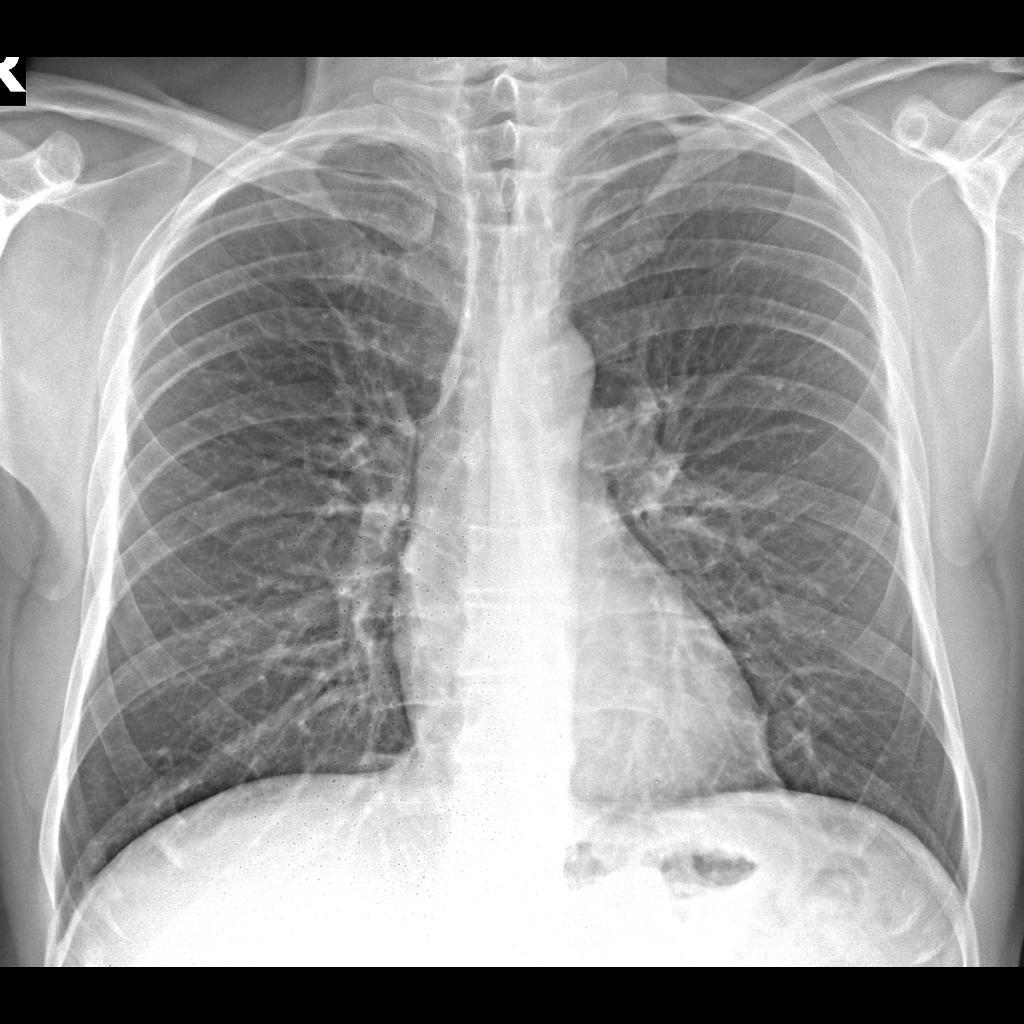Nodule: (200, 625, 246, 673)
